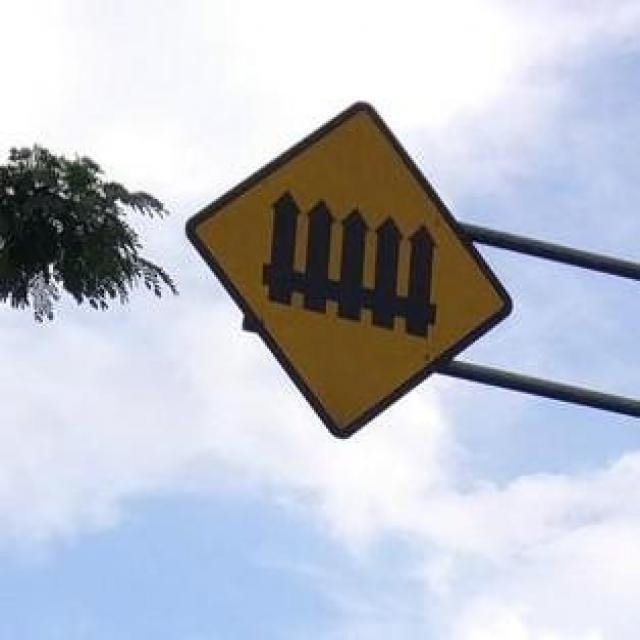traffic sign: (196, 109, 504, 435)
